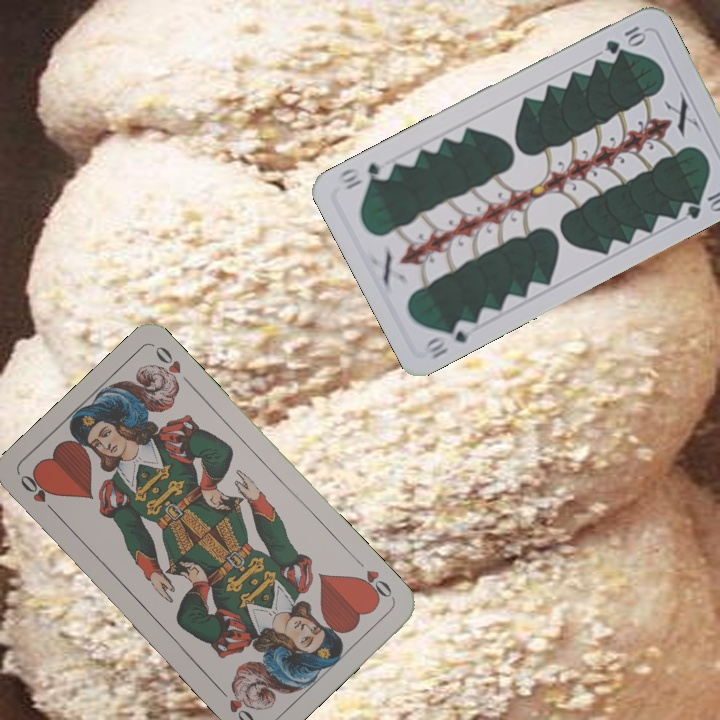G10: (421, 316, 478, 362), (601, 22, 649, 57)
HO: (16, 470, 61, 519), (351, 554, 395, 604)
